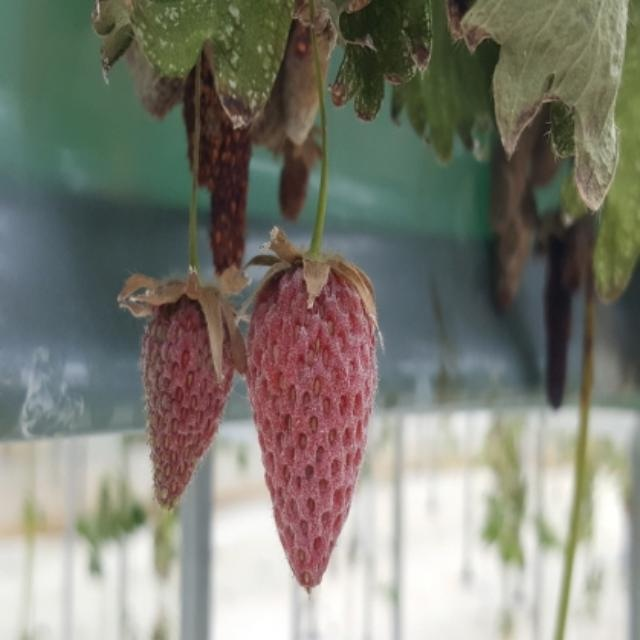Powdery Mildew Fruit: (245, 255, 378, 593), (141, 282, 240, 514)
